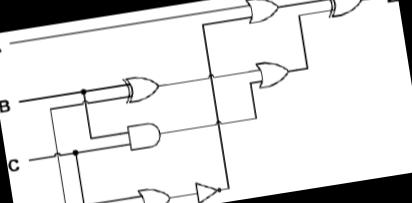and: (122, 117, 168, 152)
not: (189, 173, 224, 203)
or: (252, 54, 294, 91), (241, 0, 283, 27), (135, 181, 172, 203)
xor: (120, 67, 162, 108), (321, 0, 366, 20)
